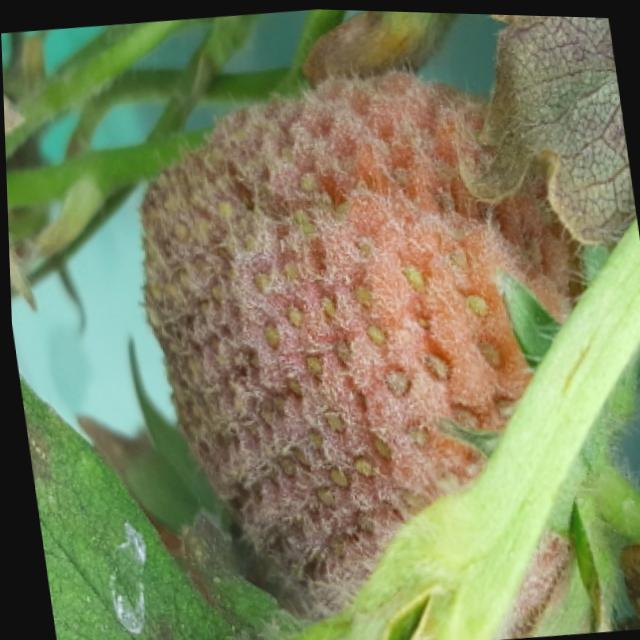Powdery Mildew Fruit: (129, 68, 620, 640)
